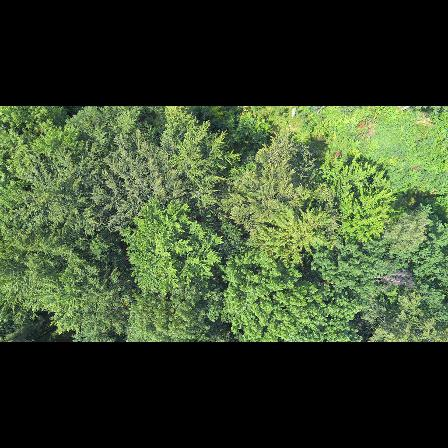Dead: (374, 267, 419, 294)
